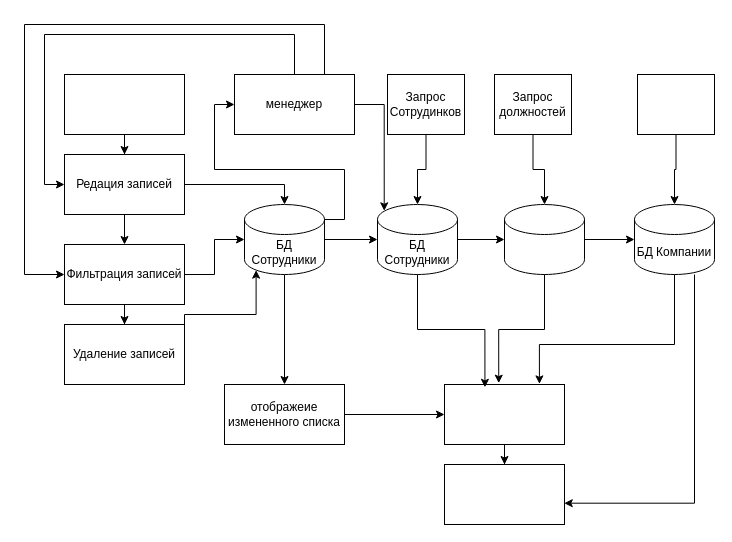
This 732x542 diagram has some shape labels left out. Here are the shapes that lost their labels. From the top down, the centre of each, then its label:
the point at 124,104: Админ
the point at 675,104: Запрос Компаний
the point at 544,239: БД Должности
the point at 504,414: вывод информации
the point at 504,494: гость
